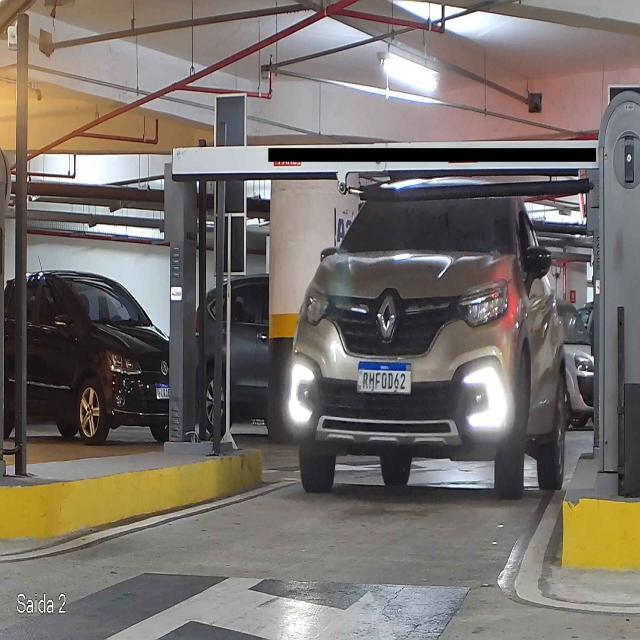mercosul_plate: (357, 360, 412, 395)
